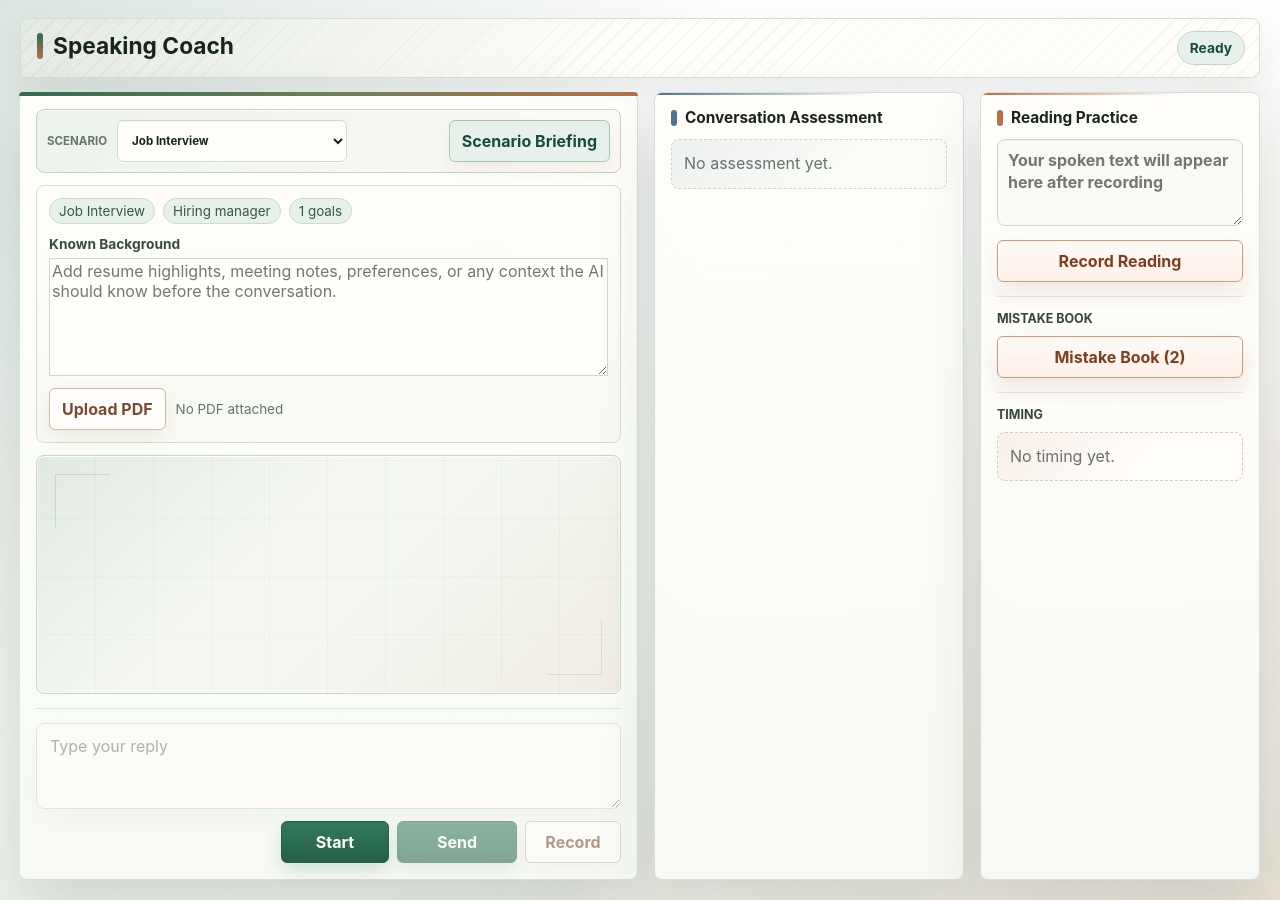
Scenario: scenario briefing opens during an active session but remains read only
The image size is (1280, 900).
Expected: the dropdown labelled "Scenario" shows "Job Interview", [117, 120, 347, 162]
Expected: the button "Scenario Briefing" is enabled, [449, 120, 610, 162]
Replace the text in the text box labelled "Known Background" with "I am preparing for a backend interview." at {"x": 328, "y": 317}, box [49, 258, 608, 376]
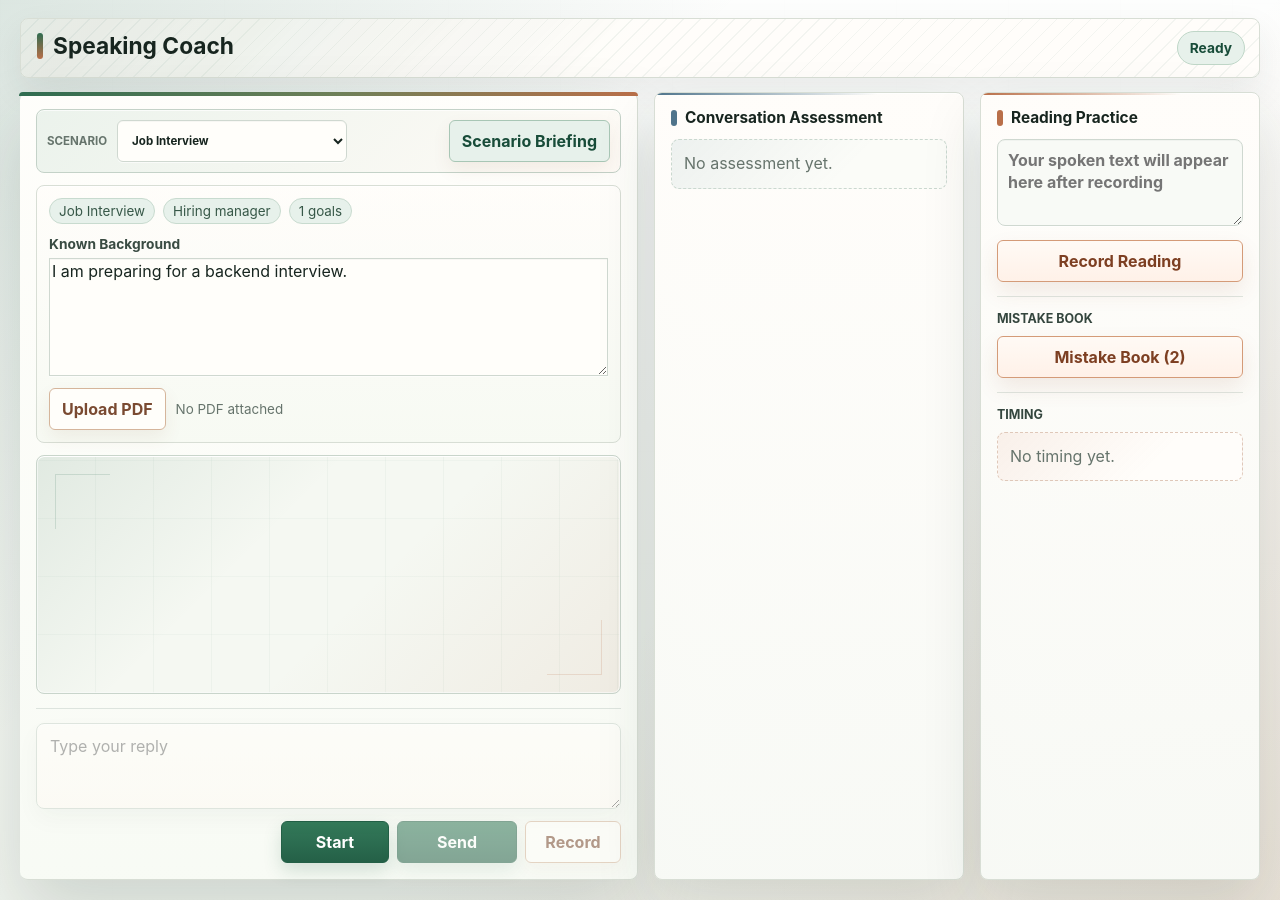
Click the button "Start" at {"x": 335, "y": 842}, box [281, 821, 389, 863]
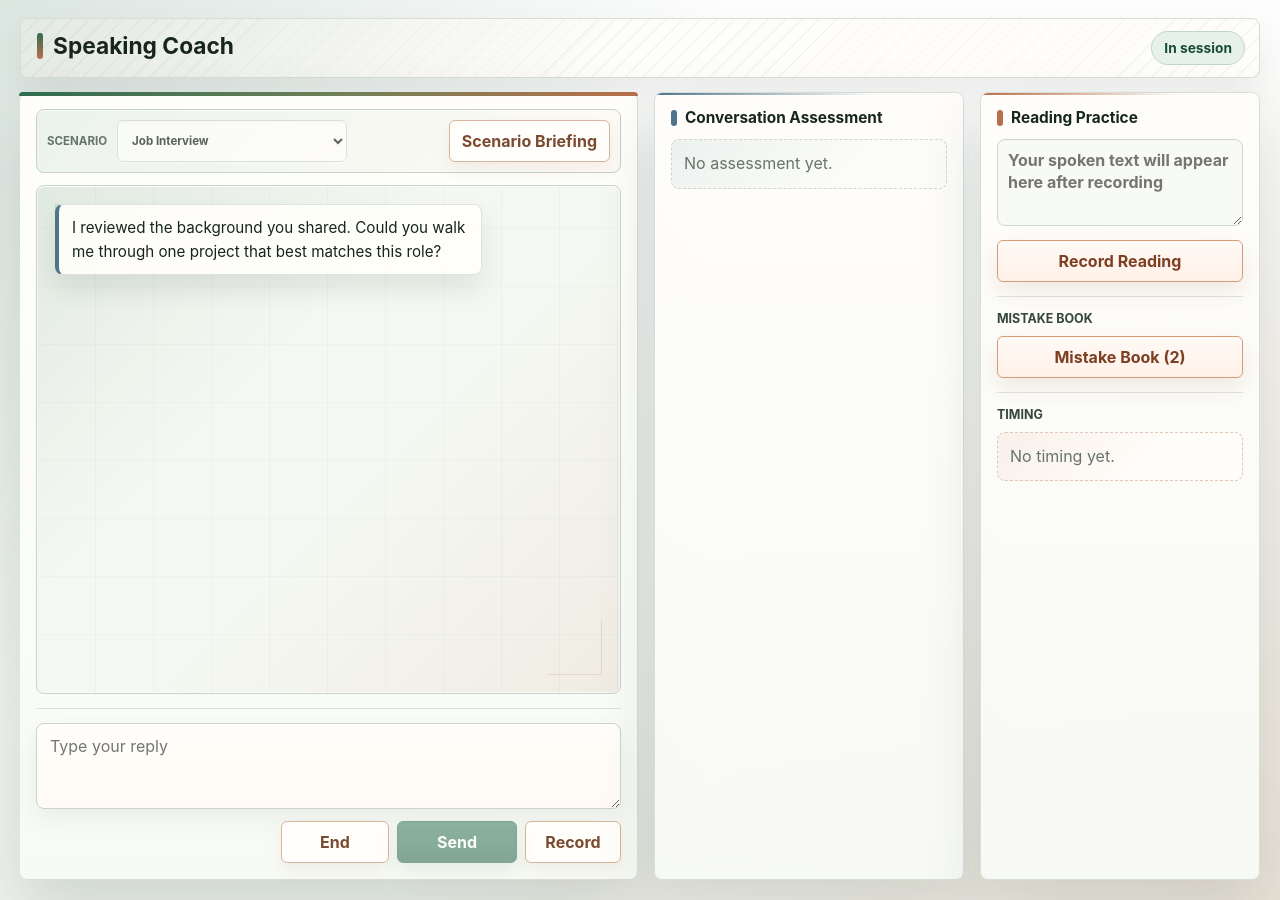
Result: the text "I reviewed the background you shared" is shown at [72, 218, 465, 261]
Result: the button "Scenario Briefing" is collapsed
Result: the text labelled "Known Background" is gone
Click the button "Scenario Briefing" at {"x": 529, "y": 141}, box [449, 120, 610, 162]
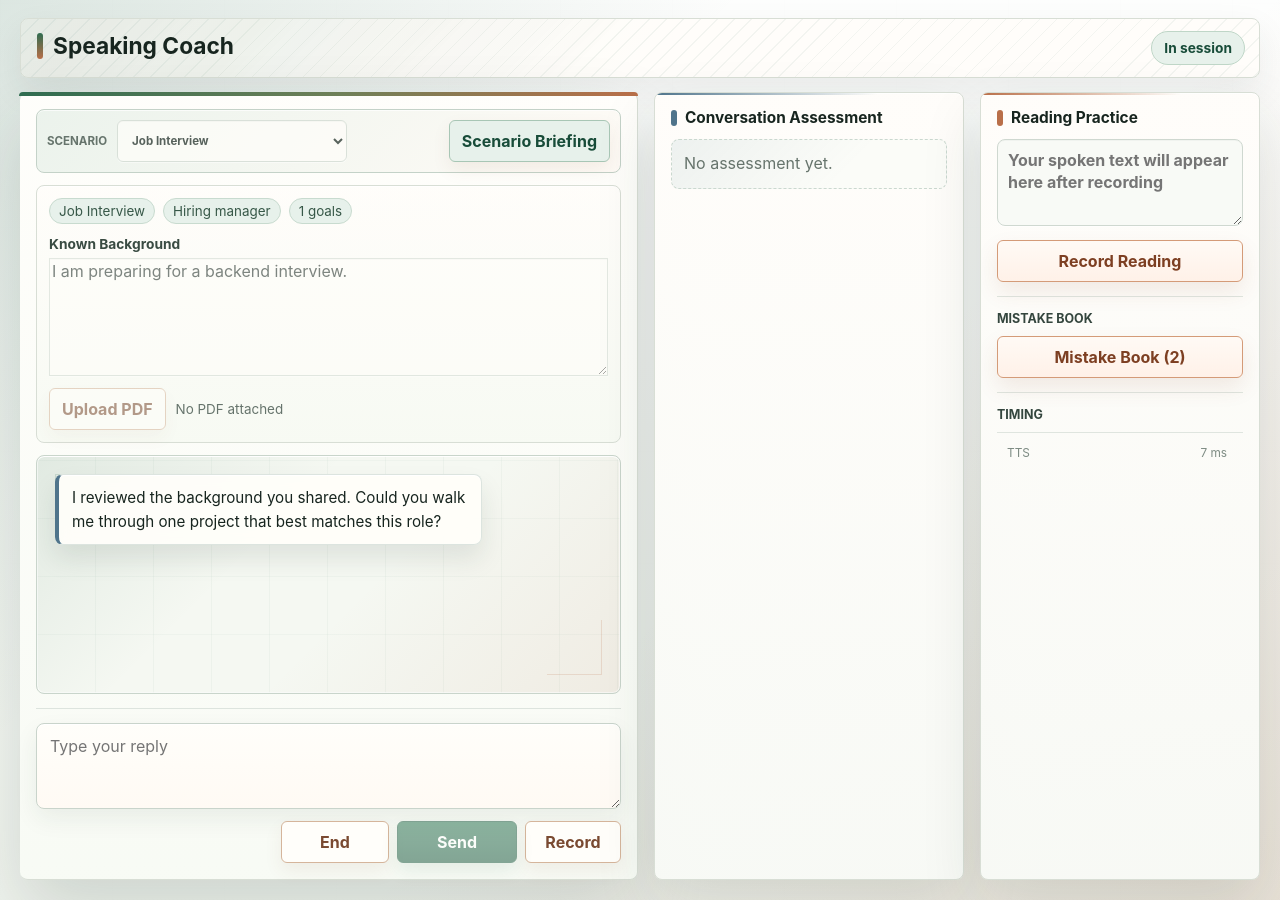
Result: the button "Scenario Briefing" is expanded at [449, 120, 610, 162]
Result: the text box labelled "Known Background" is disabled at [49, 258, 608, 376]
Result: the element named "Upload briefing PDF" is disabled at [49, 388, 283, 430]
